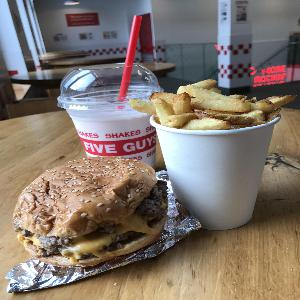cheeseburger: (10, 151, 175, 261)
fries: (134, 75, 297, 137)
